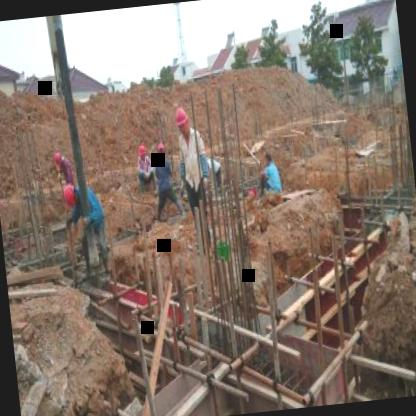helmet: (172, 104, 193, 140), (60, 182, 80, 210), (51, 147, 66, 170), (136, 138, 148, 166)
